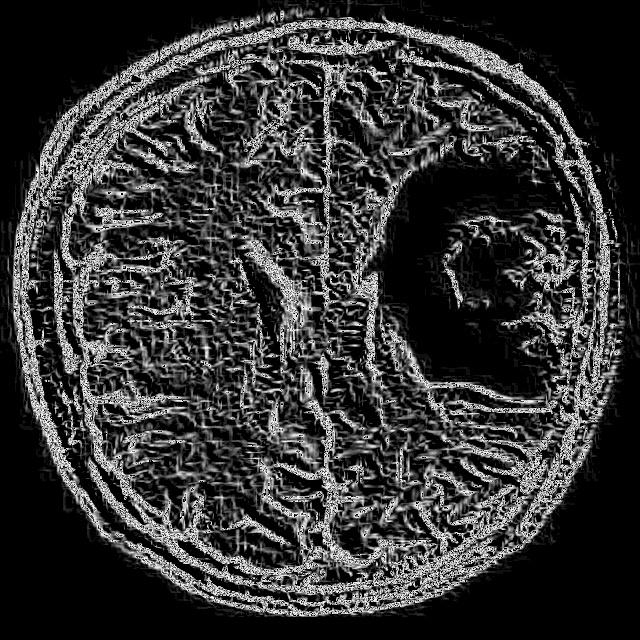Brain-Tumor: (348, 114, 582, 428)
